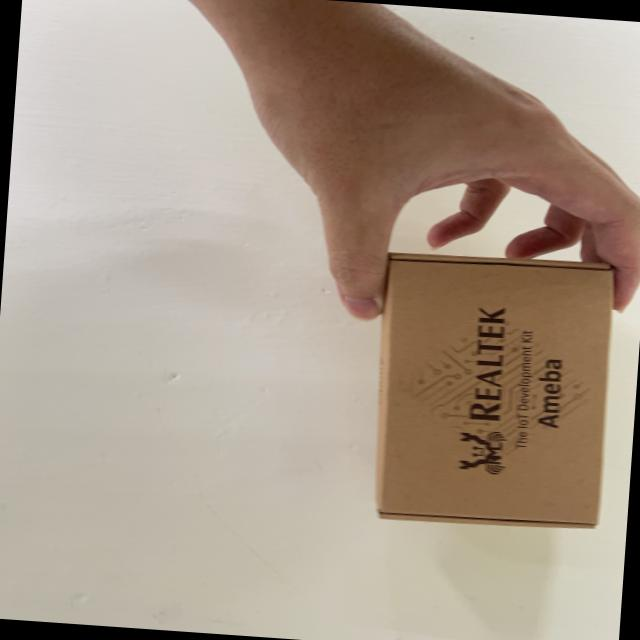box: (359, 236, 640, 547)
